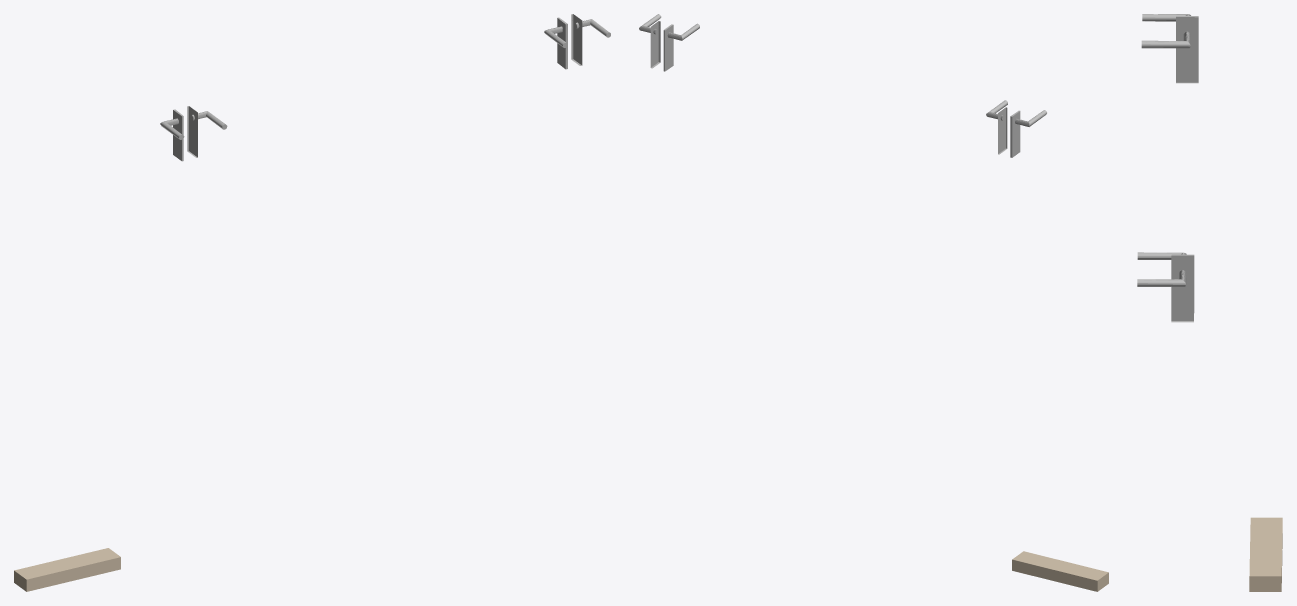
The picture shows the model from 3 angles, left to right: view 1: azimuth 30°, elevation 25°; view 2: azimuth 150°, elevation 25°; view 3: azimuth 270°, elevation 25°; orthographic projection. The views are drawn at different scales.
Size of the model in its own units: 1.76 by 1.45 by 0.3212.
